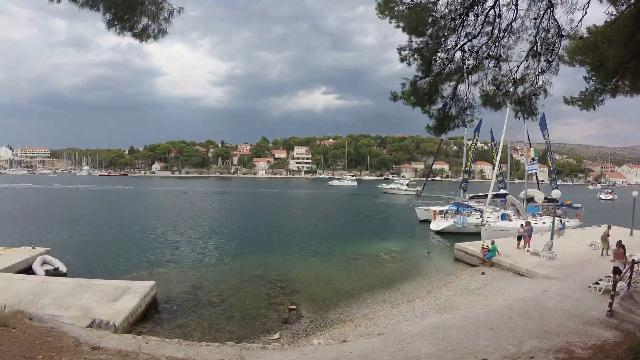Sailboat: (325, 174, 363, 188)
ferry: (372, 176, 426, 198)
